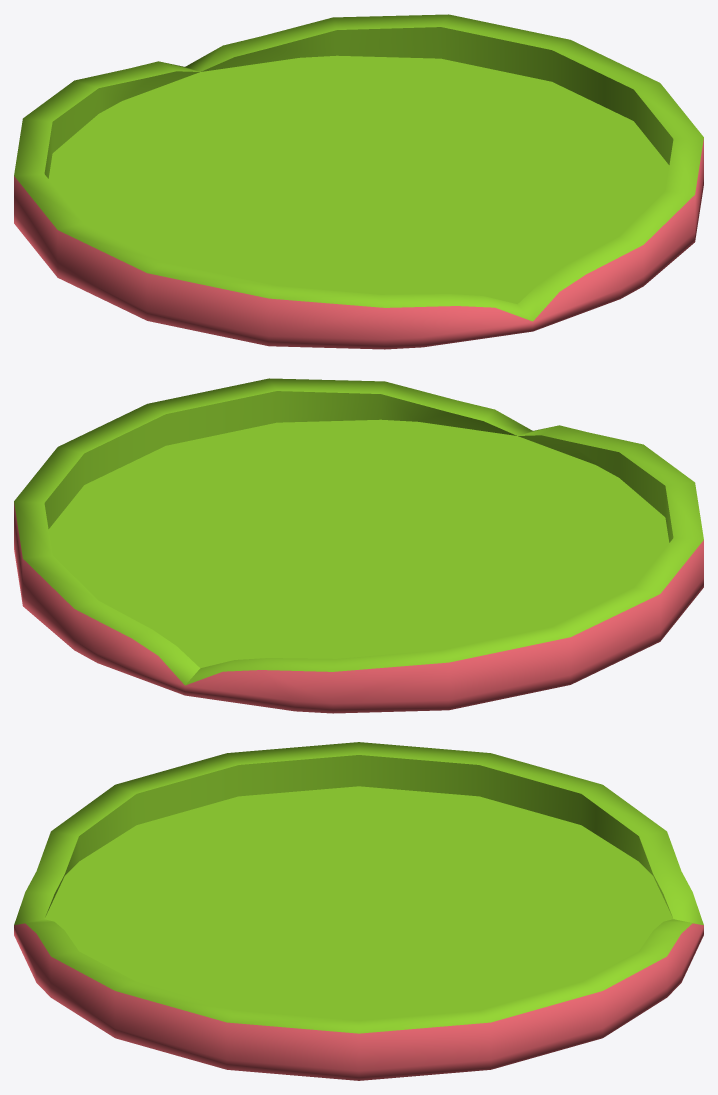
The model's file is Vegetacao-Vitoria-Regia.fbx.
The picture shows the model from 3 angles, top to bottom: view 1: azimuth 30°, elevation 25°; view 2: azimuth 150°, elevation 25°; view 3: azimuth 270°, elevation 25°; orthographic projection.
Parts seen in each view (by area): view 1: Vegetacao-Vitoria-Regia; view 2: Vegetacao-Vitoria-Regia; view 3: Vegetacao-Vitoria-Regia.
Boxes of the visible parts, x1,y1,x2,y2 form: Vegetacao-Vitoria-Regia: (14,14,703,349); Vegetacao-Vitoria-Regia: (14,378,703,713); Vegetacao-Vitoria-Regia: (14,742,703,1080).
Size of the model in its own units: 61.92 by 4.68 by 61.92.
